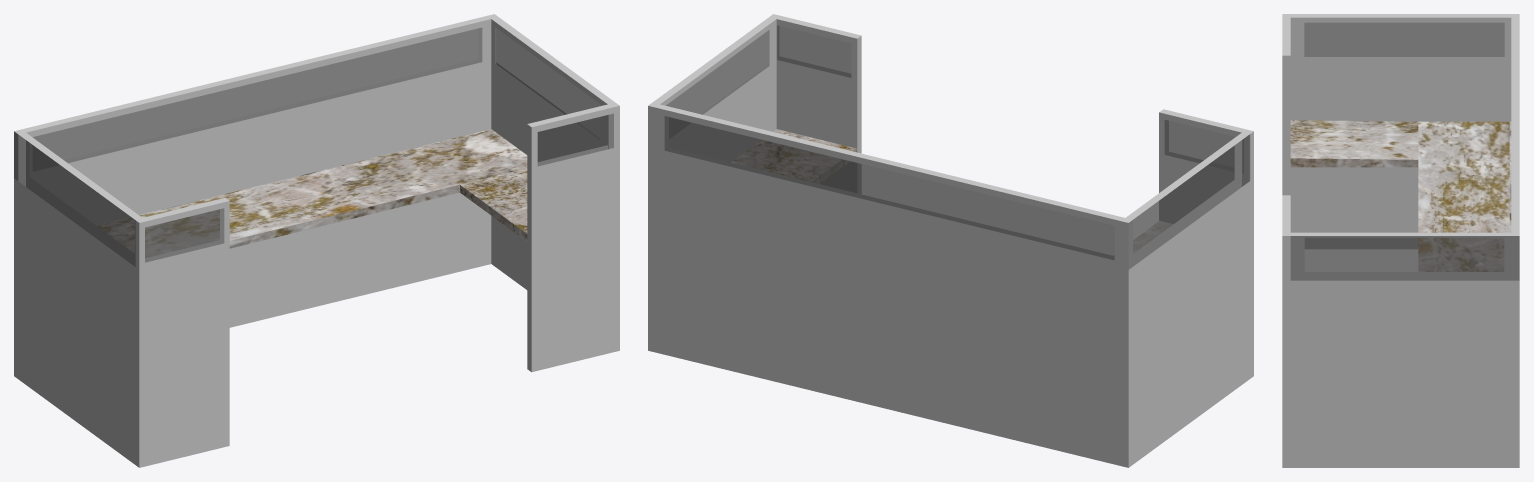
Rendered from Office-desk-textured.fbx.
The picture shows the model from 3 angles, left to right: view 1: azimuth 30°, elevation 25°; view 2: azimuth 150°, elevation 25°; view 3: azimuth 270°, elevation 25°; orthographic projection. The views are drawn at different scales.
Visible parts, largest first — view 1: office_desk13; view 2: office_desk13; view 3: office_desk13.
Part boxes in pixels (left/top/right/bottom): office_desk13: left=14, top=14, right=619, bottom=467; office_desk13: left=648, top=14, right=1253, bottom=467; office_desk13: left=1282, top=14, right=1519, bottom=467.
Size of the model in its own units: 5.7 by 2.78 by 2.57.
